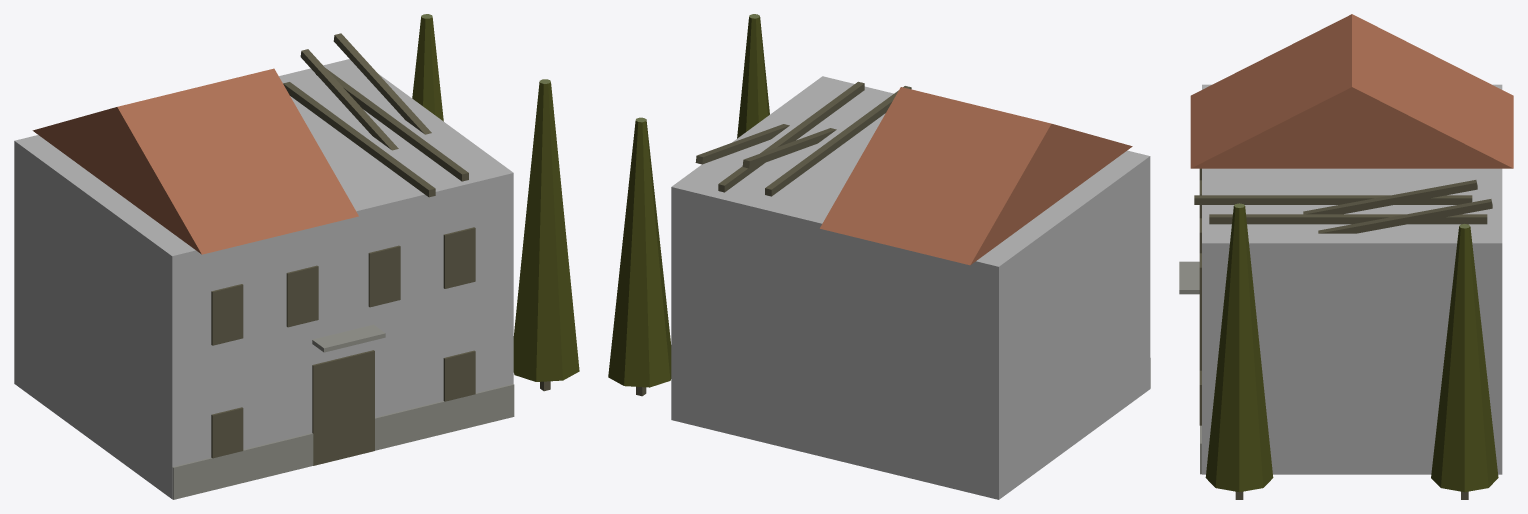
File: SM_CasaLabor_v3_Abandonada_LOD0.fbx
3 renders of one model, left to right at view 1: azimuth 30°, elevation 25°; view 2: azimuth 150°, elevation 25°; view 3: azimuth 270°, elevation 25°, orthographic. The views are drawn at different scales.
Parts seen in each view (by area): view 1: SM_bloques.viveres_nules_v13_LOD0; view 2: SM_bloques.viveres_nules_v13_LOD0; view 3: SM_bloques.viveres_nules_v13_LOD0.
Part boxes in pixels (x1,y1,x2,y2): SM_bloques.viveres_nules_v13_LOD0: (14, 14, 579, 499); SM_bloques.viveres_nules_v13_LOD0: (608, 14, 1150, 499); SM_bloques.viveres_nules_v13_LOD0: (1179, 14, 1513, 499).
Size of the model in its own units: 12.4 by 9.2 by 8.9.
